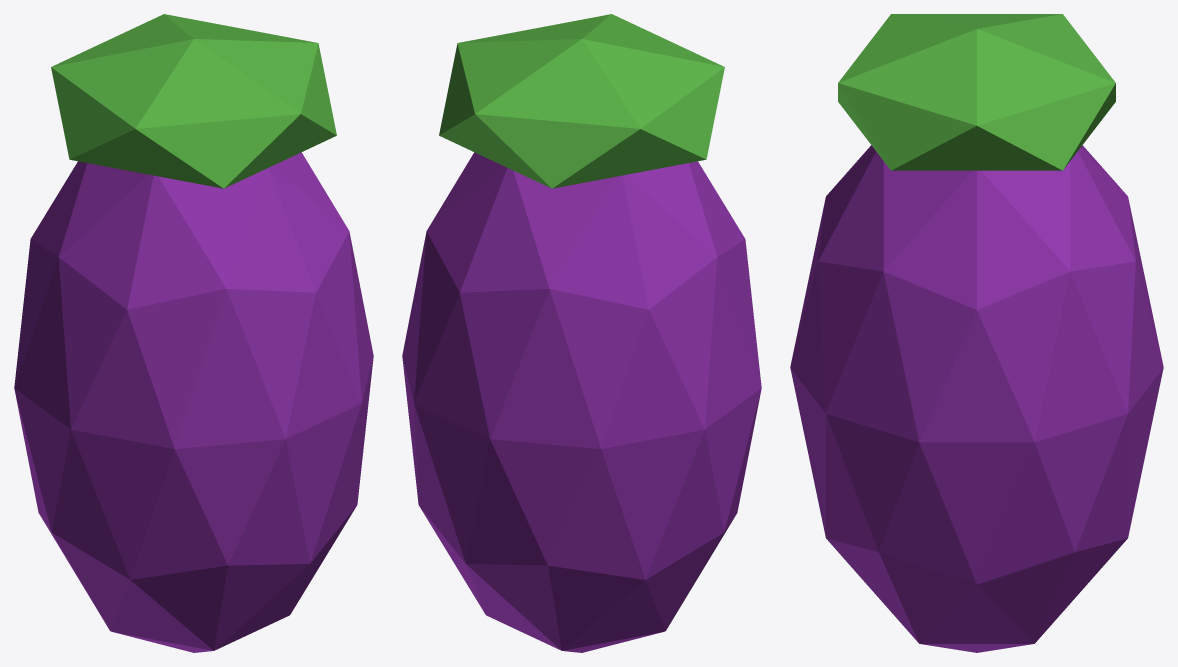
File: harvest_drop_eggplant.glb
3 renders of one model, left to right at view 1: azimuth 30°, elevation 25°; view 2: azimuth 150°, elevation 25°; view 3: azimuth 270°, elevation 25°, orthographic.
Visible parts, largest first — view 1: FTF_Harvest_Drop_Eggplant_Mesh; view 2: FTF_Harvest_Drop_Eggplant_Mesh; view 3: FTF_Harvest_Drop_Eggplant_Mesh.
Boxes of the visible parts, x1,y1,x2,y2 form: FTF_Harvest_Drop_Eggplant_Mesh: (14,14,373,652); FTF_Harvest_Drop_Eggplant_Mesh: (402,14,761,652); FTF_Harvest_Drop_Eggplant_Mesh: (790,14,1163,652).
Bounding box in the file's own units: 0.3043 × 0.59 × 0.32.
